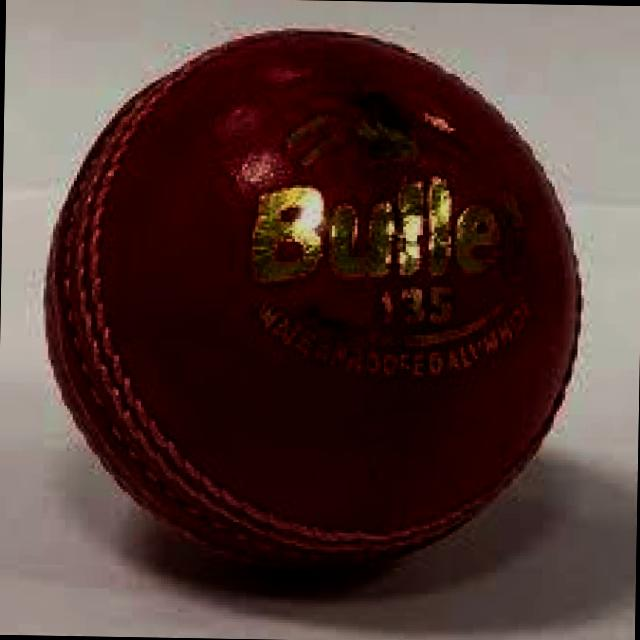ball: (37, 27, 586, 578)
